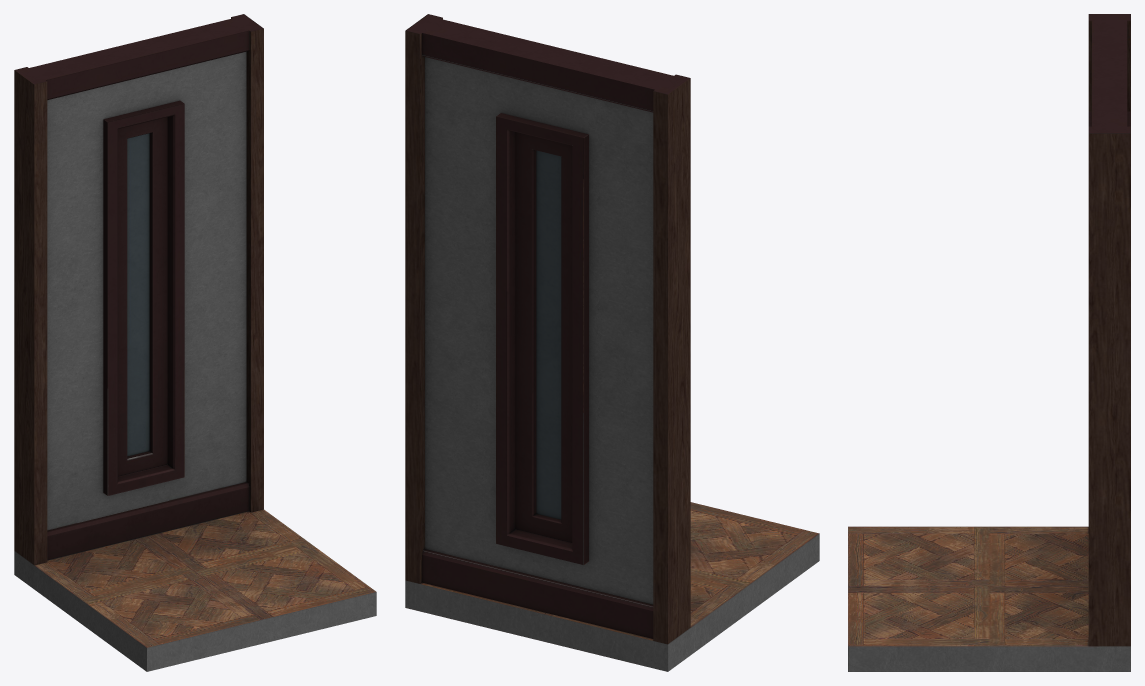
File: SM_Wall_Window_Colored1.fbx
3 views of the same model, side by side, from view 1: azimuth 30°, elevation 25°; view 2: azimuth 150°, elevation 25°; view 3: azimuth 270°, elevation 25° (orthographic). The views are drawn at different scales.
Parts seen in each view (by area): view 1: Wall_Window_Colored1; view 2: Wall_Window_Colored1; view 3: Wall_Window_Colored1.
Part boxes in pixels (bbox=[...]): Wall_Window_Colored1: bbox=[14, 14, 376, 671]; Wall_Window_Colored1: bbox=[405, 14, 819, 671]; Wall_Window_Colored1: bbox=[848, 14, 1130, 671].
Bounding box in the file's own units: 200 × 420 × 200.
